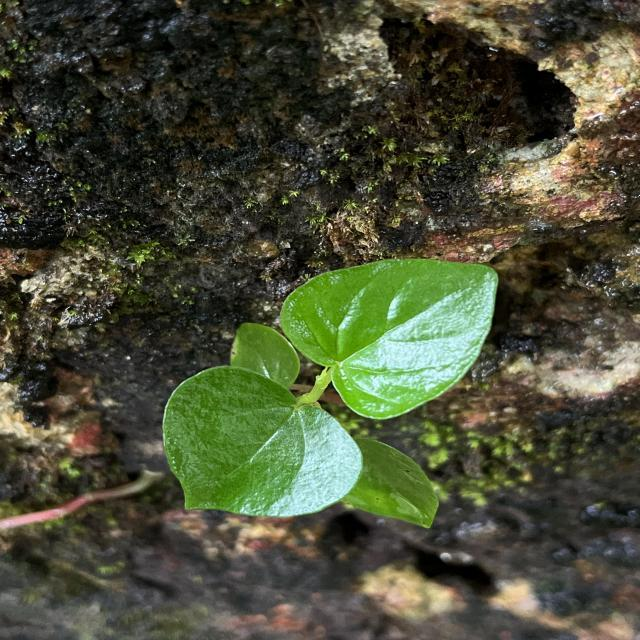Peperomia pellucida: (278, 255, 500, 422), (162, 364, 366, 519)
